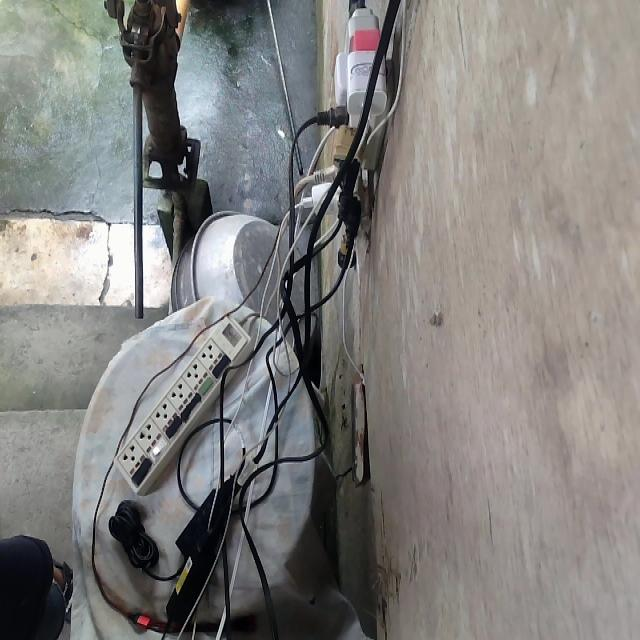-: (286, 3, 409, 292)
